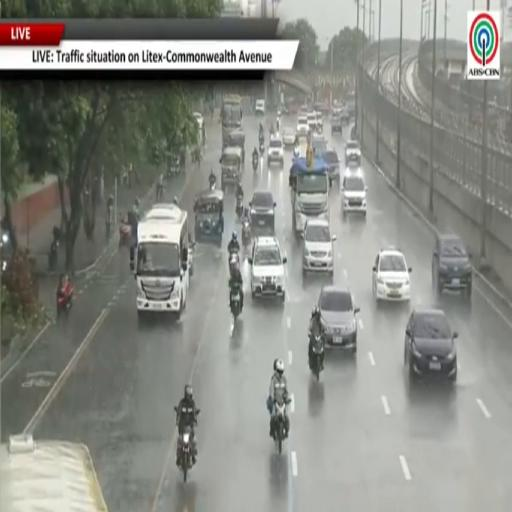bus: (0, 435, 107, 511), (131, 204, 191, 317), (345, 91, 357, 117)
car: (405, 309, 458, 381), (318, 285, 359, 353), (432, 234, 472, 297), (248, 237, 287, 301), (373, 248, 411, 302), (303, 218, 336, 276), (249, 189, 276, 235), (341, 170, 367, 215), (322, 149, 339, 186), (268, 134, 284, 168), (345, 140, 361, 166), (312, 133, 327, 156), (331, 109, 342, 134), (283, 128, 296, 148), (297, 116, 308, 136), (193, 112, 203, 131), (307, 112, 316, 133), (255, 100, 266, 116), (340, 106, 350, 123), (316, 111, 323, 133)
motorcycle: (273, 398, 290, 454), (179, 427, 193, 482), (309, 333, 324, 380), (57, 283, 73, 316), (230, 286, 241, 321), (48, 238, 59, 271), (119, 219, 131, 247), (228, 252, 240, 275), (242, 219, 251, 247), (236, 196, 243, 218), (209, 175, 216, 190), (252, 154, 258, 171), (259, 142, 264, 155), (293, 147, 299, 157)
truck: (289, 157, 329, 234), (220, 94, 242, 146), (344, 91, 356, 118)
